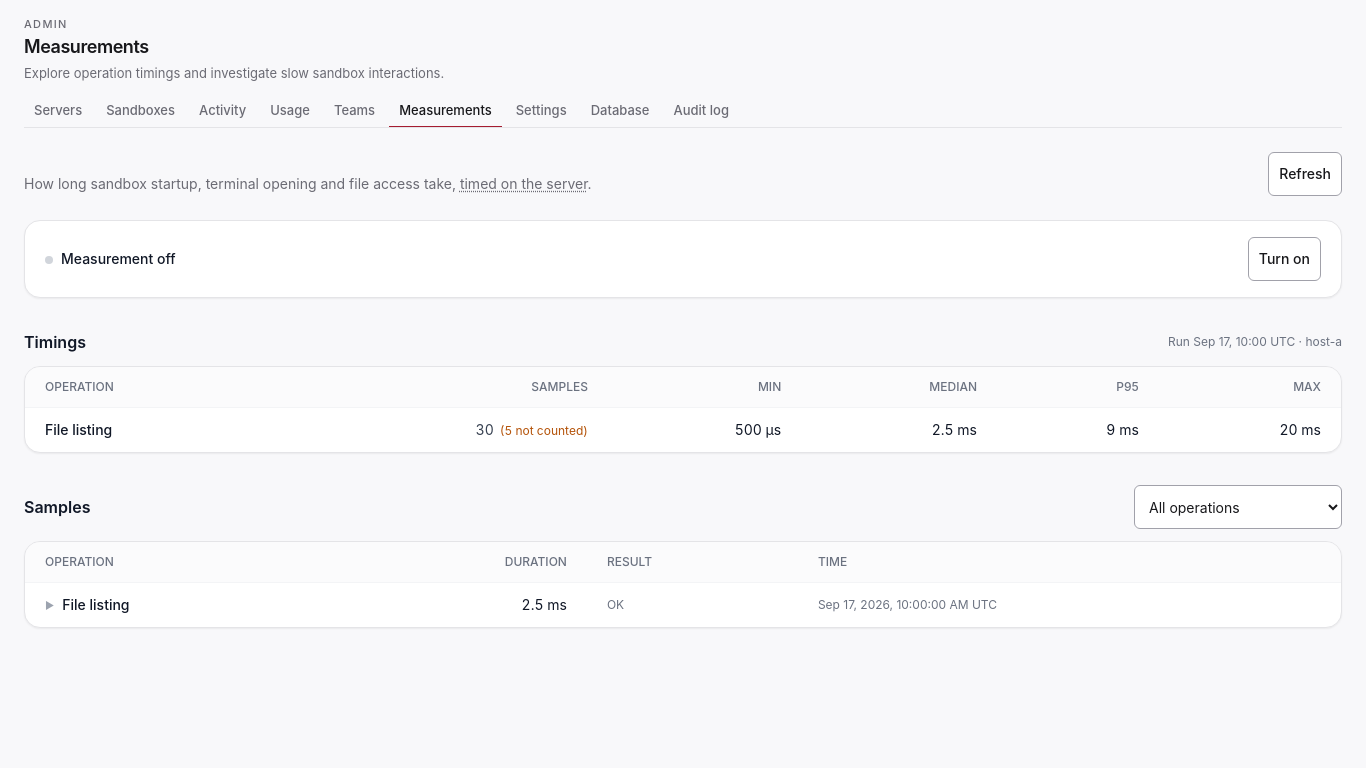
Test case: admin measurements page › drops the previous list when a new filter’s read fails, rather than showing it under the new one
Select "File opening" in the dropdown named "Operation" at [1238, 507], box left=1134, top=485, right=1342, bottom=529
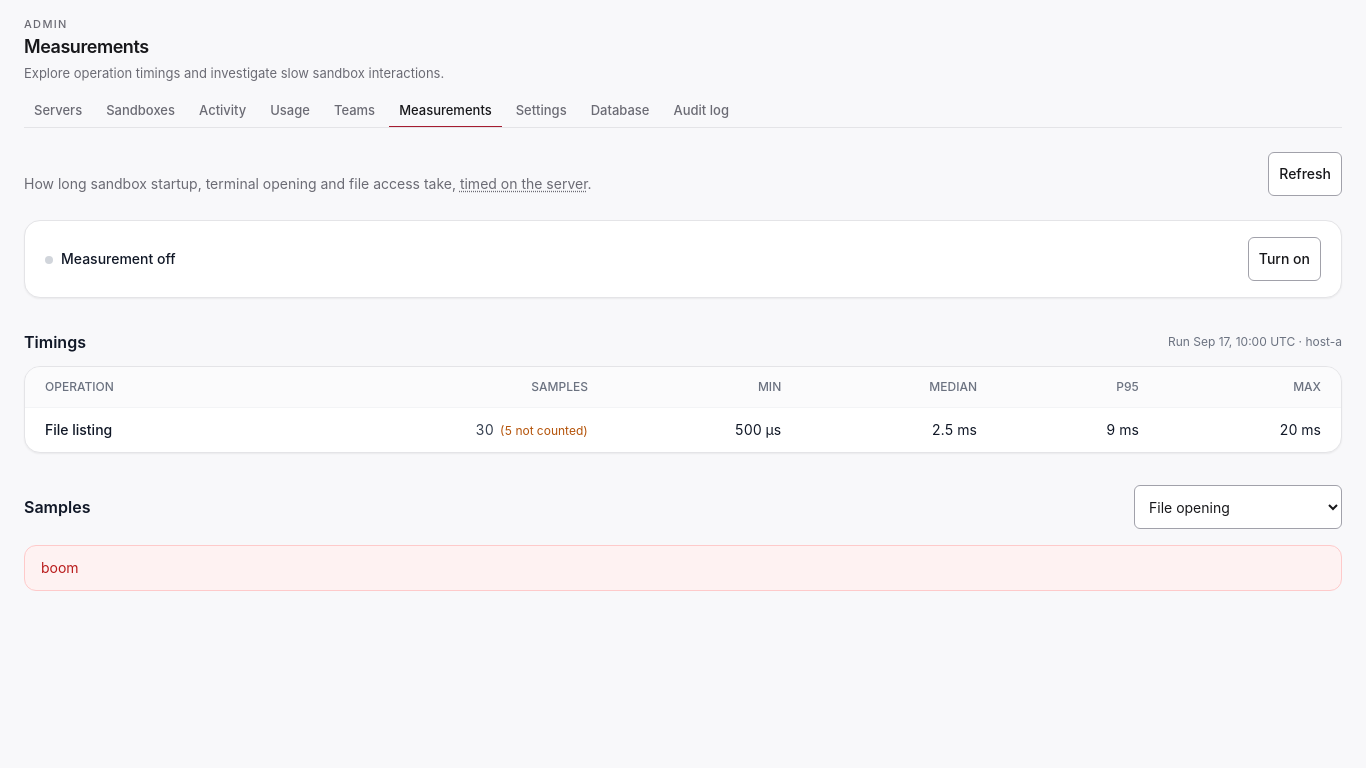
Expected: the text "boom" is shown, left=24, top=545, right=1342, bottom=591
